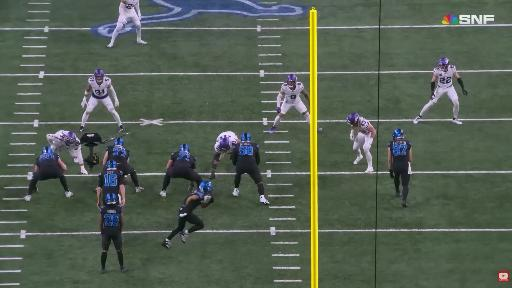Helmet: (199, 181, 213, 194), (438, 57, 449, 72), (347, 113, 359, 126), (219, 138, 230, 152), (94, 69, 104, 83), (287, 74, 297, 86), (106, 193, 116, 204), (393, 129, 403, 139), (241, 132, 251, 141), (179, 144, 189, 152), (114, 138, 123, 146), (107, 160, 116, 168), (66, 132, 76, 139), (42, 147, 53, 153)
Jersey: (99, 168, 123, 196), (100, 206, 122, 235), (179, 191, 204, 216), (233, 142, 259, 165), (388, 139, 411, 163), (89, 77, 111, 99), (53, 131, 79, 149), (434, 66, 455, 88), (282, 82, 303, 103), (215, 132, 237, 152), (171, 151, 195, 169), (106, 146, 129, 164), (36, 154, 59, 169), (359, 117, 370, 135), (124, 0, 138, 13)
Player: (414, 58, 467, 124), (162, 182, 213, 248), (78, 69, 125, 131), (232, 133, 269, 204), (24, 147, 72, 201), (270, 74, 310, 133), (160, 144, 202, 197), (103, 138, 143, 192), (99, 193, 126, 273), (388, 129, 411, 207), (108, 0, 146, 47), (47, 131, 87, 174), (347, 113, 375, 172), (210, 132, 239, 179), (97, 160, 125, 207)
